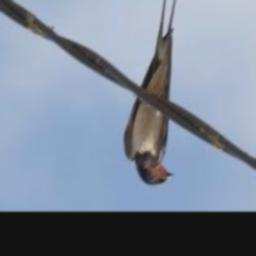Swallow: (124, 0, 183, 185)
